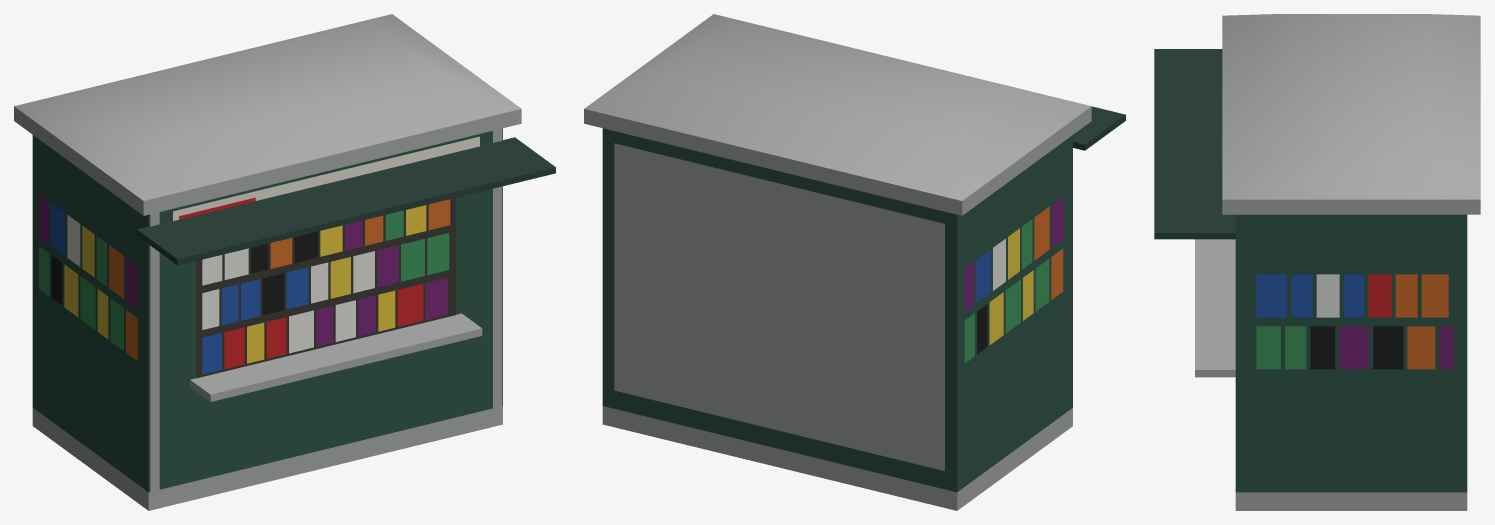
The model's file is nyc_newsstand.glb.
3 views of the same model, side by side, from view 1: azimuth 30°, elevation 25°; view 2: azimuth 150°, elevation 25°; view 3: azimuth 270°, elevation 25° (orthographic).
Parts seen in each view (by area): view 1: nyc_newsstand; view 2: nyc_newsstand; view 3: nyc_newsstand.
Part boxes in pixels (x1,y1,x2,y2): nyc_newsstand: [14, 14, 555, 510]; nyc_newsstand: [584, 14, 1125, 510]; nyc_newsstand: [1154, 14, 1480, 510].
Bounding box in the file's own units: 3.2 × 2.77 × 2.4.
Materials: 1 (1 with a texture image).
